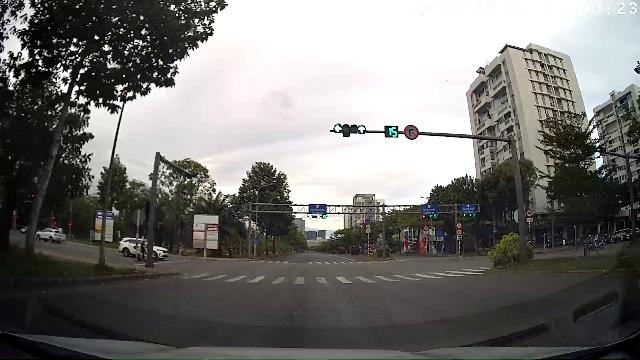123b-cam-re-phai: (404, 124, 420, 139)
